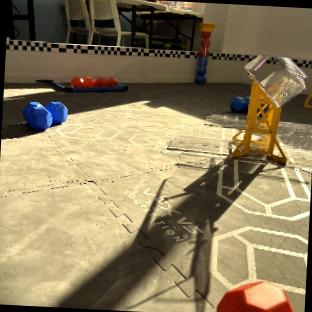Goal: (230, 54, 304, 164)
Parking - B: (37, 80, 128, 91)
V5_BLUE: (23, 101, 68, 130), (230, 96, 247, 111)
V5_RED: (218, 280, 294, 312), (196, 24, 213, 82), (71, 76, 118, 87)
